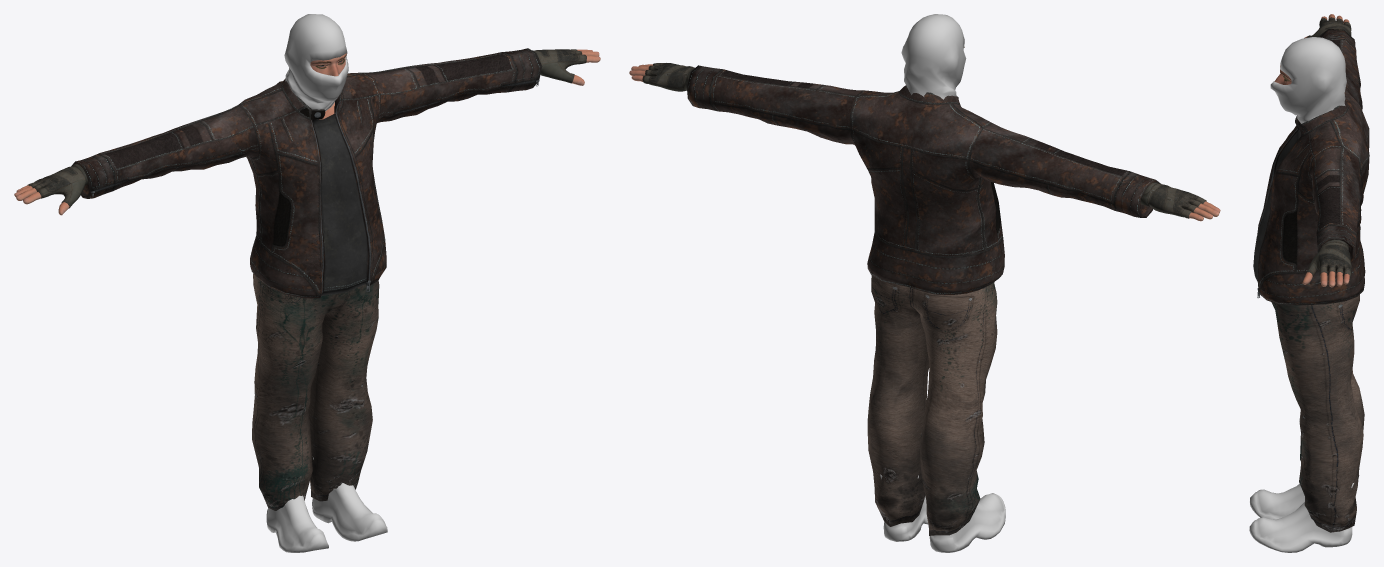
Rendered from dusman.obj.
The picture shows the model from 3 angles, left to right: view 1: azimuth 30°, elevation 25°; view 2: azimuth 150°, elevation 25°; view 3: azimuth 270°, elevation 25°; orthographic projection. The views are drawn at different scales.
Visible parts, largest first — view 1: Tops, Bottoms, Shoes, Masks, Gloves, Body; view 2: Tops, Bottoms, Masks, Shoes, Gloves; view 3: Tops, Bottoms, Masks, Shoes, Gloves, Body.
Boxes of the visible parts, x1,y1,x2,y2 form: Tops: (72, 48, 542, 298); Bottoms: (252, 273, 379, 510); Shoes: (266, 456, 387, 552); Masks: (284, 14, 348, 111); Gloves: (27, 49, 586, 208); Body: (14, 49, 600, 215); Tops: (686, 65, 1161, 294); Bottoms: (867, 276, 997, 535); Masks: (901, 14, 966, 99); Shoes: (880, 474, 1005, 552); Gloves: (642, 63, 1206, 218); Tops: (1253, 29, 1369, 305); Bottoms: (1271, 294, 1364, 532); Masks: (1270, 37, 1346, 123); Shoes: (1249, 483, 1353, 552); Gloves: (1305, 17, 1351, 277); Body: (1274, 14, 1349, 287).
Bounding box in the file's own units: 213 × 180 × 39.68.
